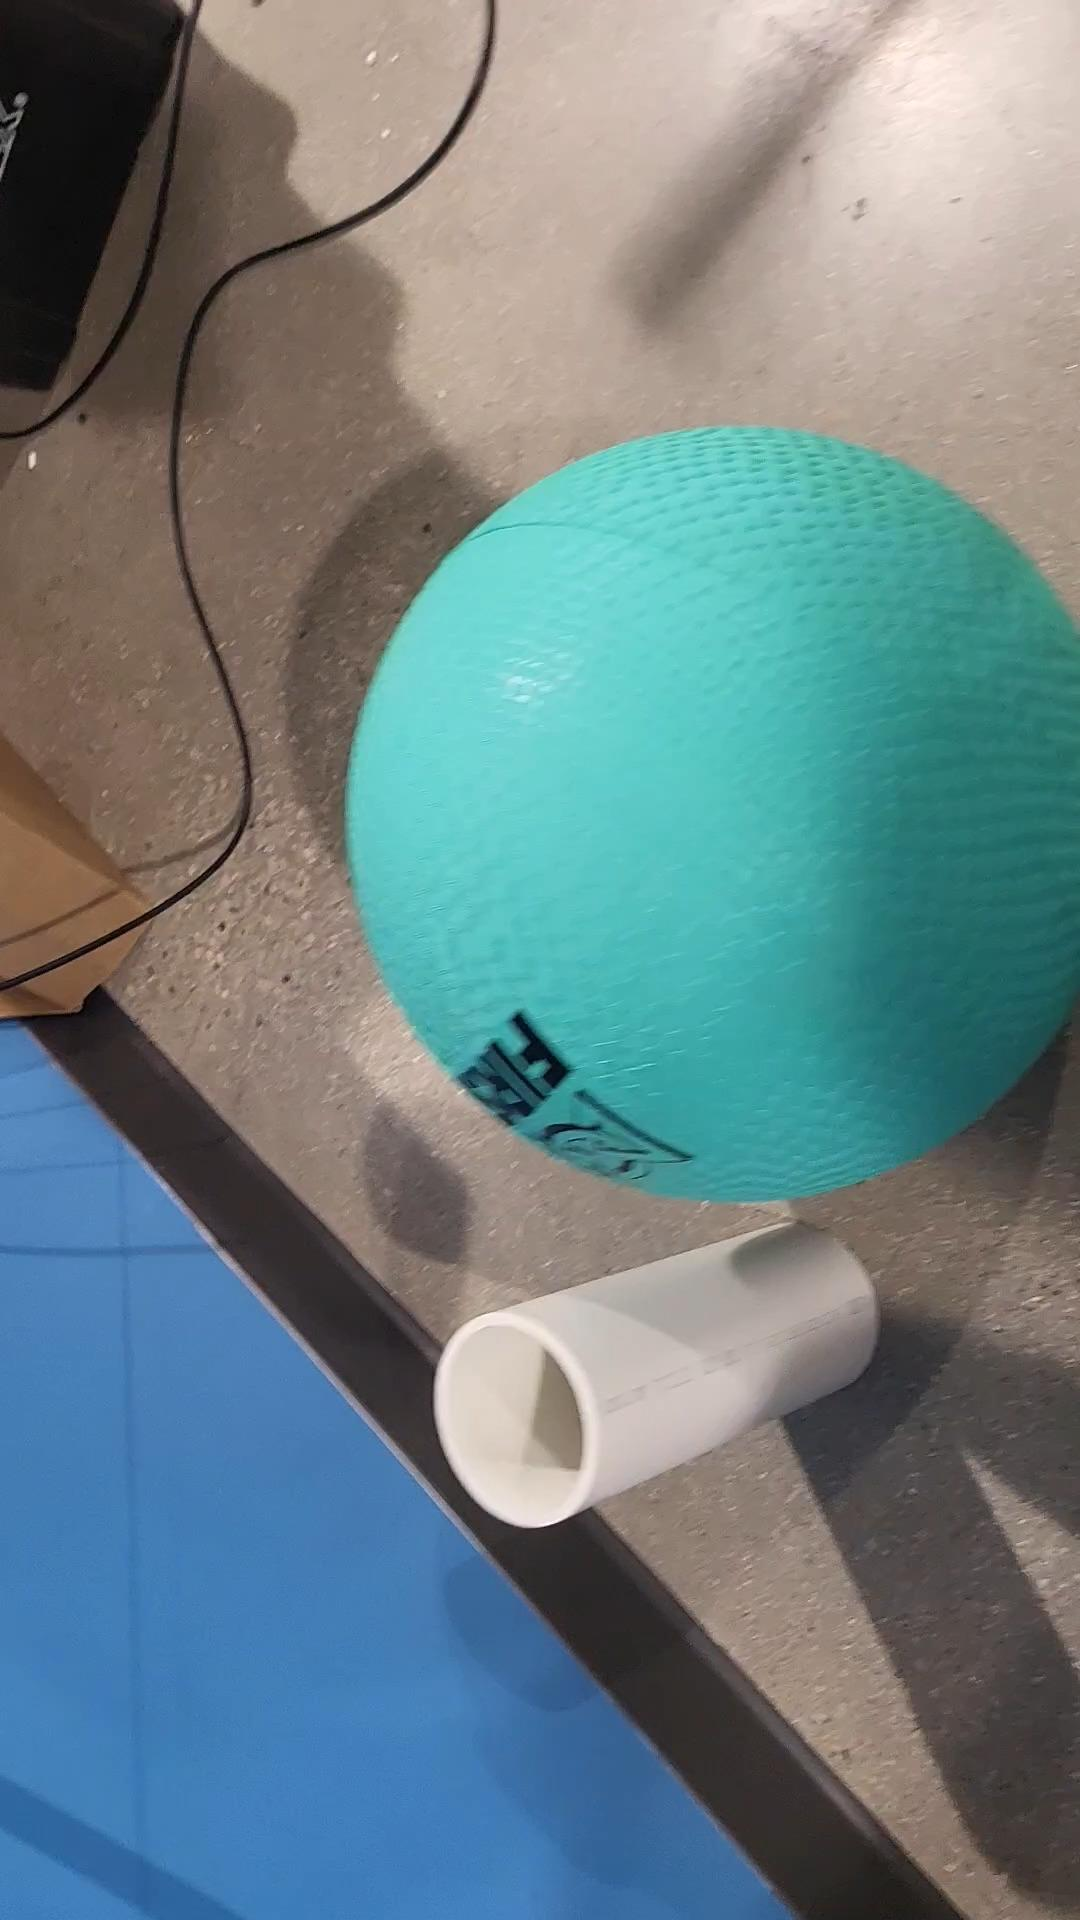algae: (334, 417, 1080, 1217)
coral: (430, 1224, 903, 1530)
